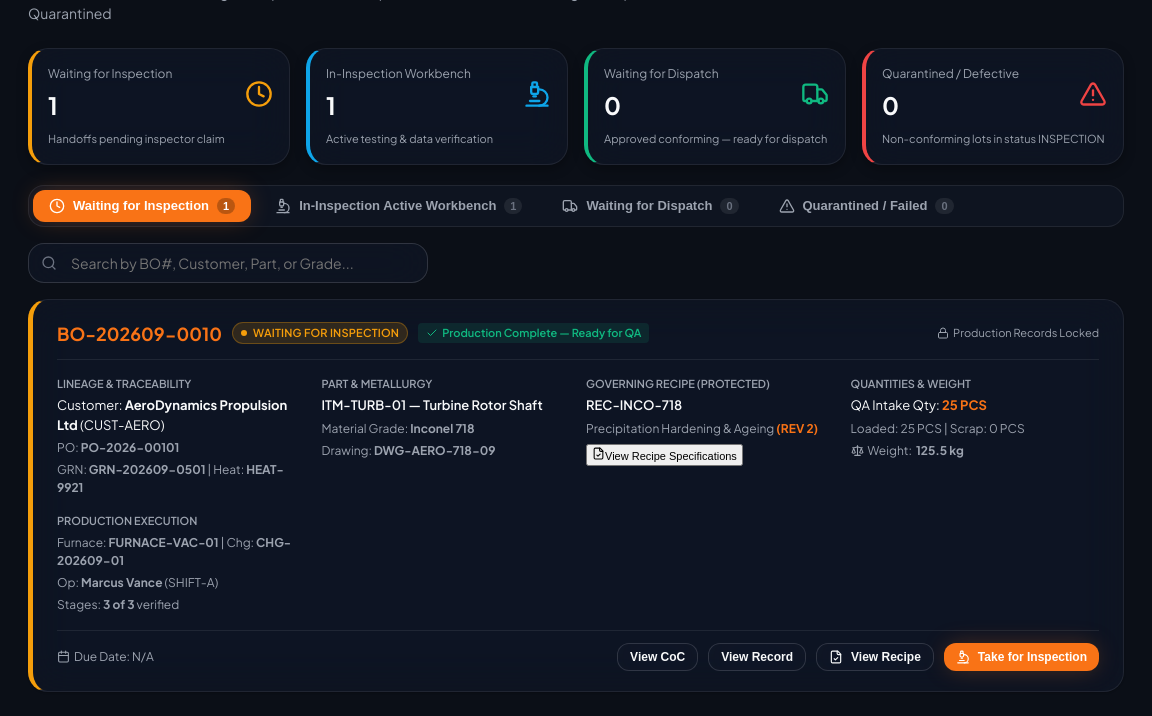
Test case: End-to-End Manufacturing ERP Interaction Suite › 5. Quality & Metallurgical Laboratory › opens inspection drawer and generates Certificate of Conformance (CoC)
(page scrolled)
Click the button "View CoC" at {"x": 658, "y": 656}, box [617,642,698,670]
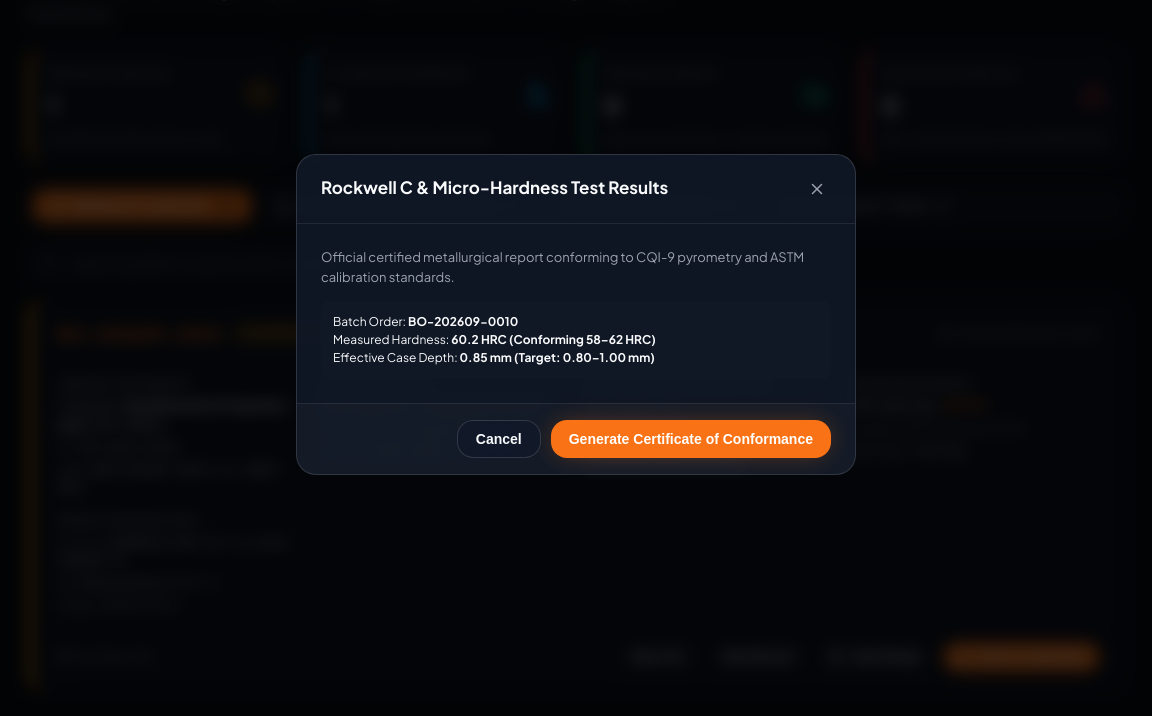
Check: the heading "Rockwell C & Micro-Hardness Test Results" is shown, box [321,175,668,201]
Click the button "Generate Certificate of Conformance" at {"x": 691, "y": 439}, box [551,420,831,458]
(page scrolled)
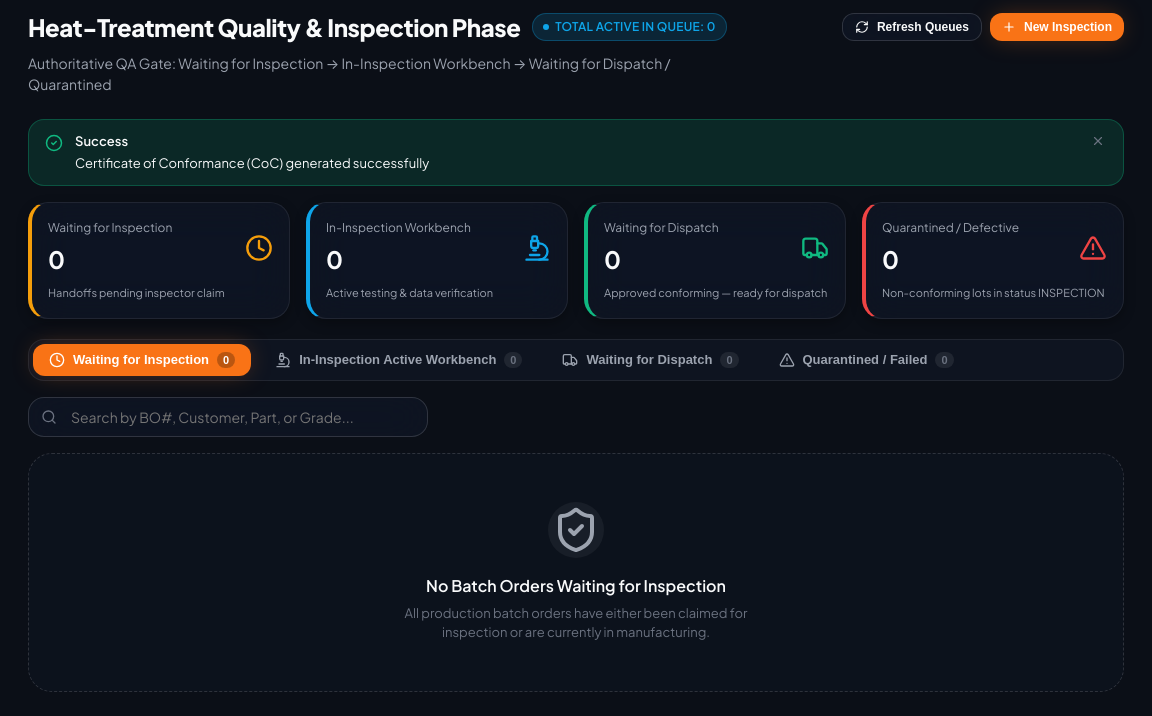
Check: the text "Certificate of Conformance (CoC) generated successfully" is shown, box [75,154,429,170]
